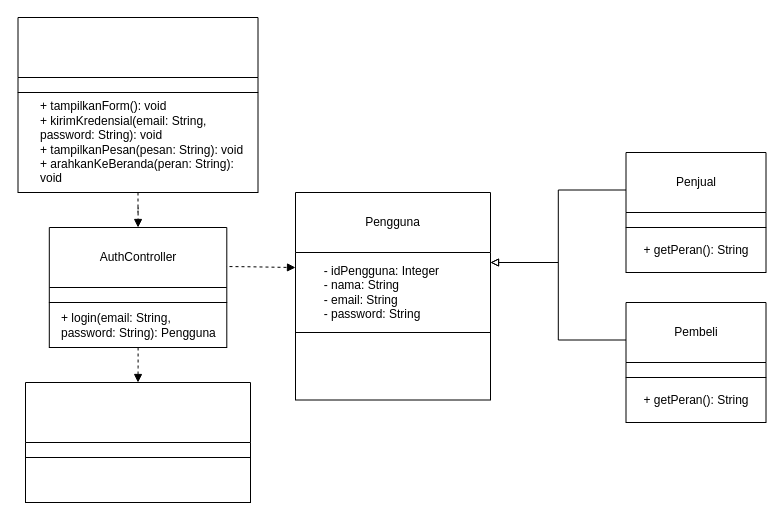
Image size: 783x520. Some labels were removed from this diagram. The centre of each missing label's shape, as x and y in pixels:
"+ validasiKredensial(email: String, password: String): List<String>" goes at (137,479).
"+ verifikasiPassword(password: String): Boolean + getPeran(): String" goes at (392,366).
"LoginView" goes at (137,54).
"Validasi" goes at (137,420).
